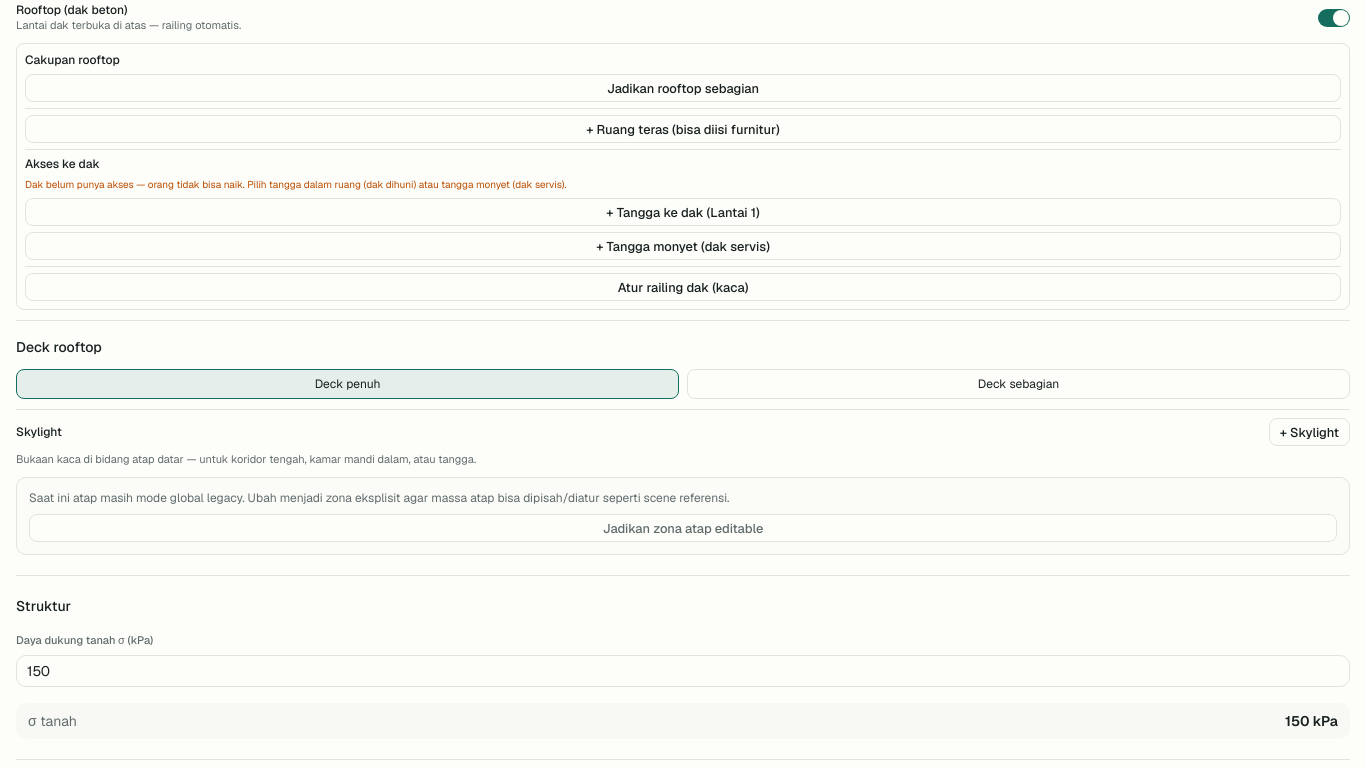
Test: EditorInspector — rooftop deck controls › with a rooftop floor › selecting 'Deck sebagian' creates a rooftopArea and reveals the 4 inputs + summary
(page scrolled)
Click the radio button labelled "Deck sebagian". click: {"x": 1018, "y": 384}
box: [687, 369, 1350, 399]
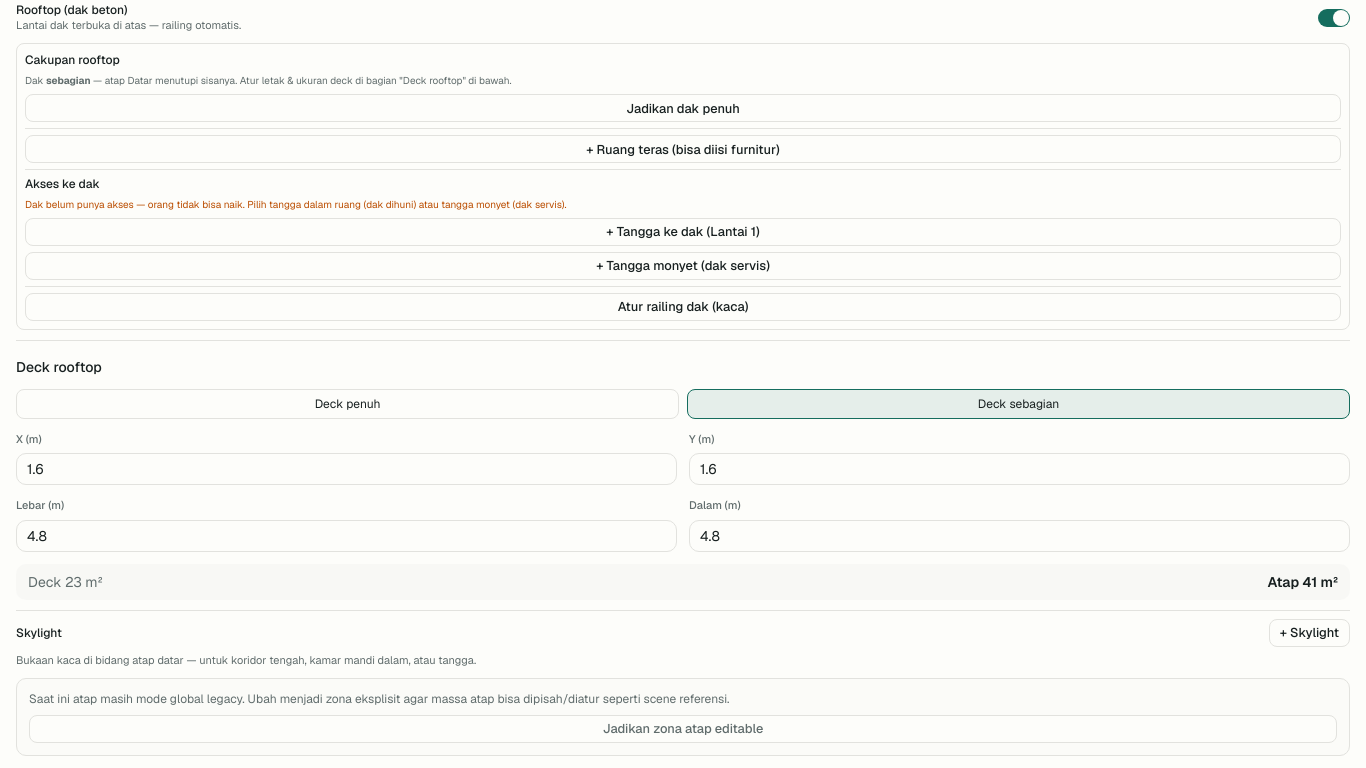
Check: the number field named "Posisi X deck rooftop (meter)" is shown, box [16, 453, 677, 485]
Check: the number field named "Posisi Y deck rooftop (meter)" is shown, box [689, 453, 1350, 485]
Check: the number field named "Lebar deck rooftop (meter)" is shown, box [16, 520, 677, 552]
